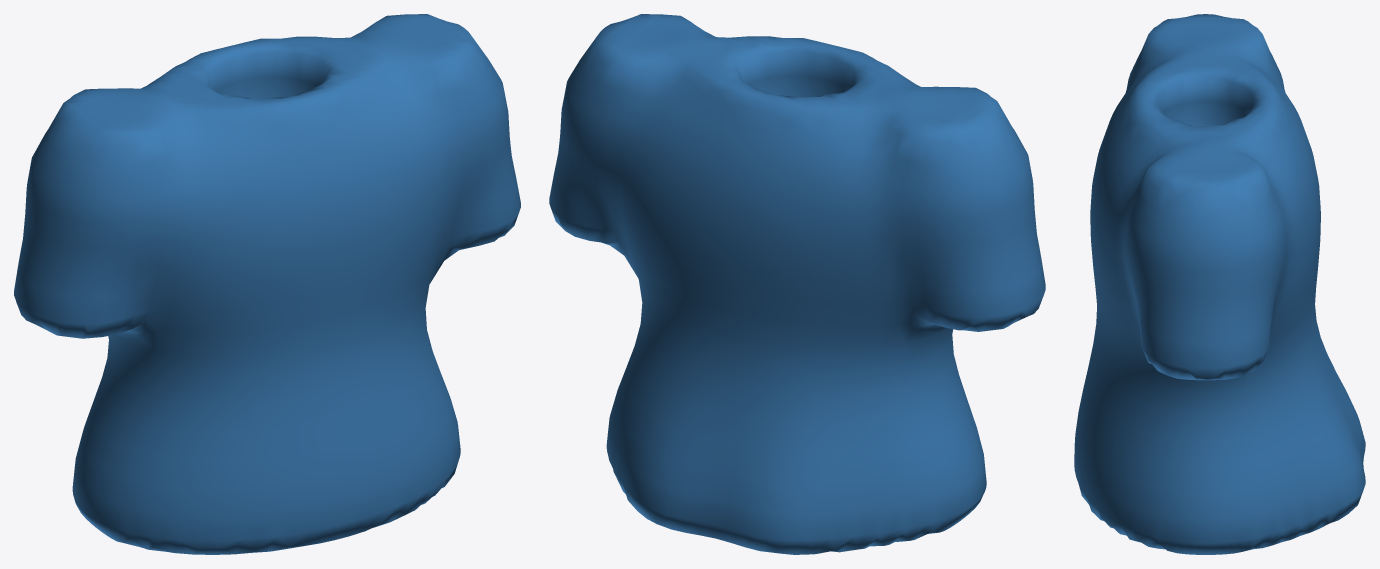
Rendered from male-tshirt-Mavi.glb.
3 views of the same model, side by side, from view 1: azimuth 30°, elevation 25°; view 2: azimuth 150°, elevation 25°; view 3: azimuth 270°, elevation 25° (orthographic). The views are drawn at different scales.
Visible parts, largest first — view 1: worn-top; view 2: worn-top; view 3: worn-top.
Boxes of the visible parts, box(x1,y1,x2,y2) form: worn-top: box(14, 14, 520, 554); worn-top: box(549, 14, 1045, 554); worn-top: box(1074, 14, 1365, 554).
Size of the model in its own units: 0.6291 by 0.523 by 0.3572.
